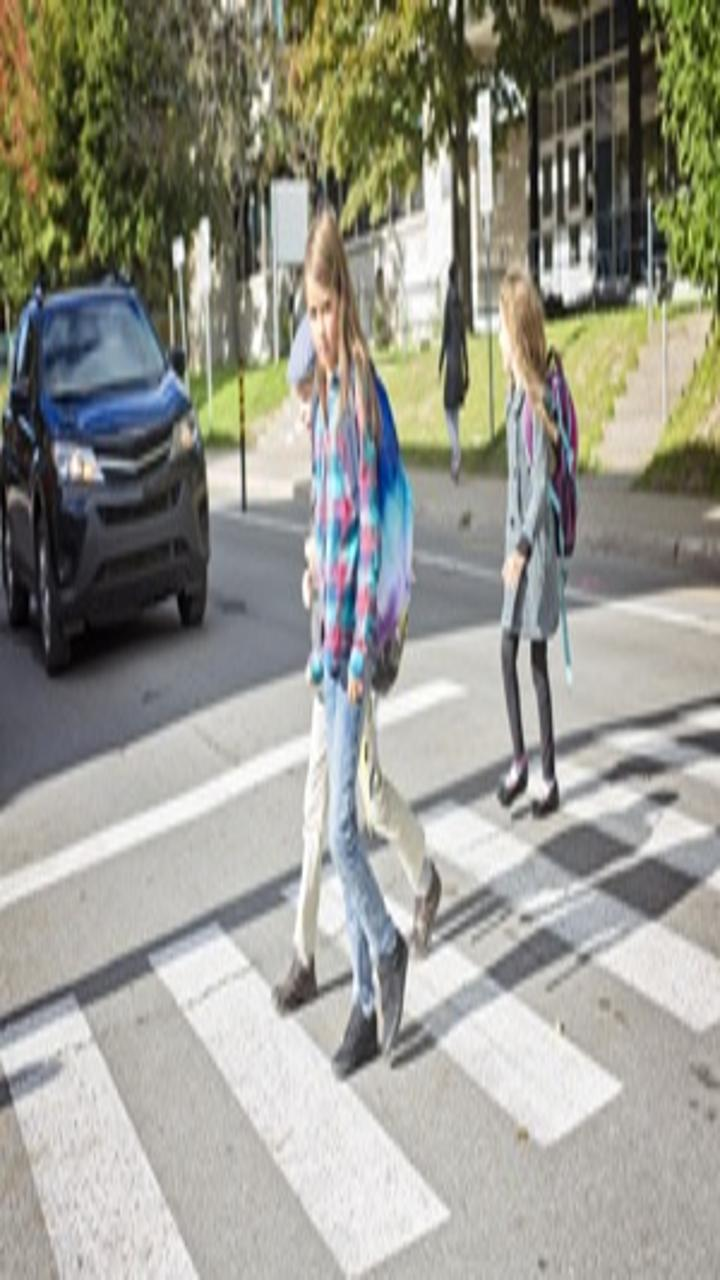pedestrian: (271, 209, 454, 1081), (475, 177, 596, 856)
vehicle: (6, 280, 227, 691)
